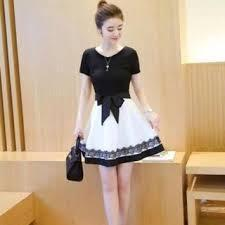dress: (78, 49, 161, 173)
